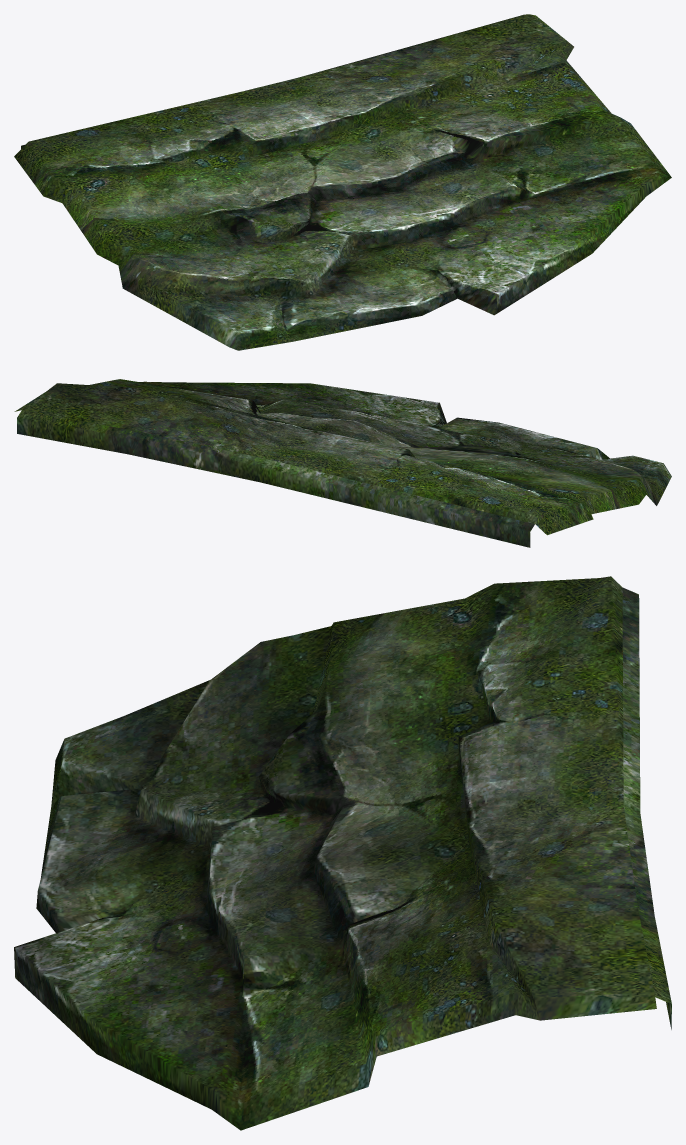
Rendered from qys_shiban.FBX.
3 renders of one model, top to bottom at view 1: azimuth 30°, elevation 25°; view 2: azimuth 150°, elevation 25°; view 3: azimuth 270°, elevation 25°, orthographic. The views are drawn at different scales.
Parts seen in each view (by area): view 1: qys_shiban; view 2: qys_shiban; view 3: qys_shiban.
Part boxes in pixels (x1=…): qys_shiban: x1=14, y1=14, x2=671, y2=350; qys_shiban: x1=14, y1=379, x2=671, y2=547; qys_shiban: x1=14, y1=576, x2=671, y2=1130.
Size of the model in its own units: 3689 by 698 by 2348.
